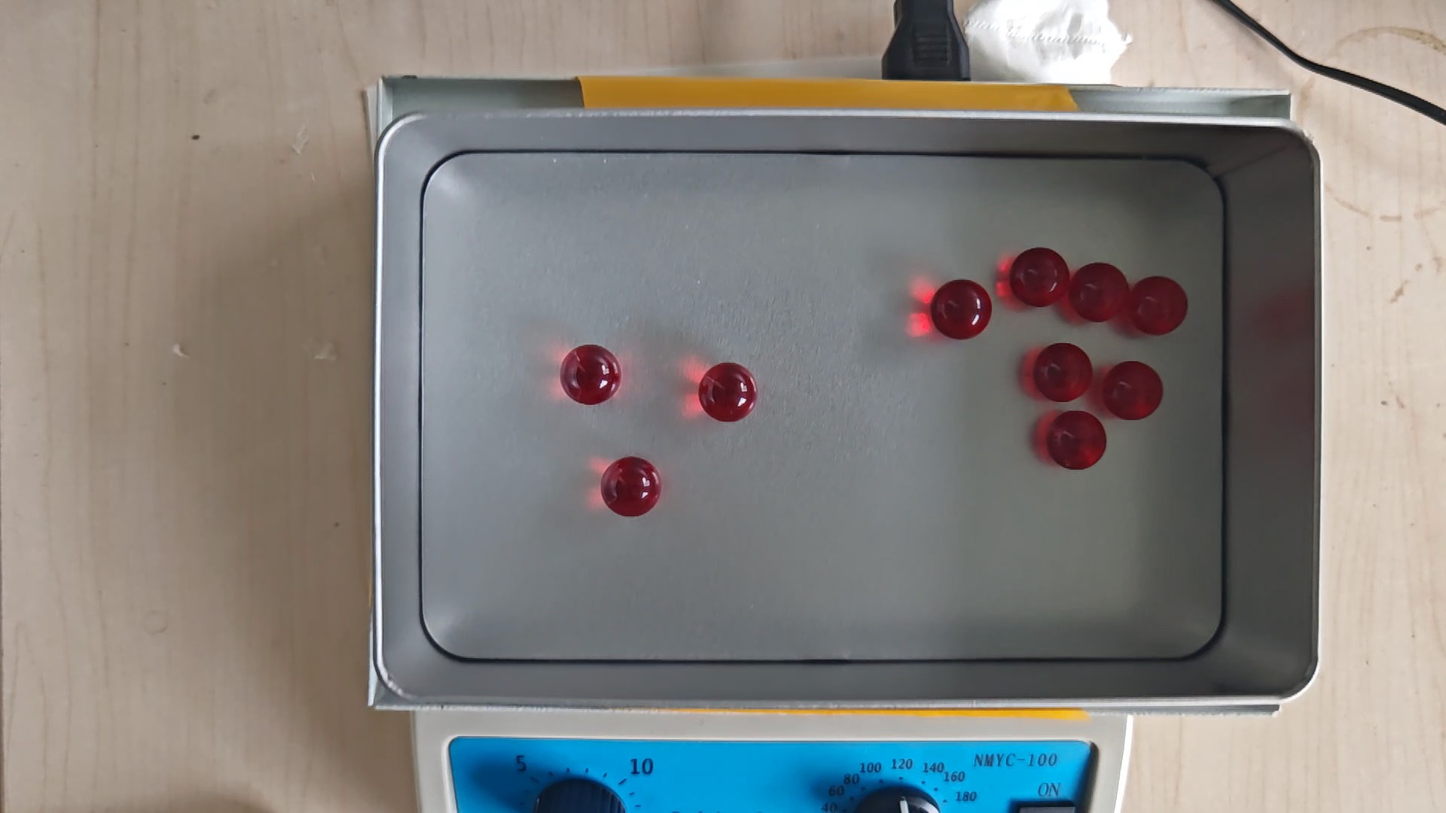ball: (932, 278, 992, 341), (1047, 410, 1107, 472), (561, 344, 621, 406), (602, 456, 662, 518), (1103, 360, 1163, 421), (1070, 261, 1129, 323), (1034, 342, 1093, 403), (1010, 247, 1068, 309), (699, 362, 757, 424), (1129, 276, 1187, 336)
container: (420, 152, 1224, 661)
